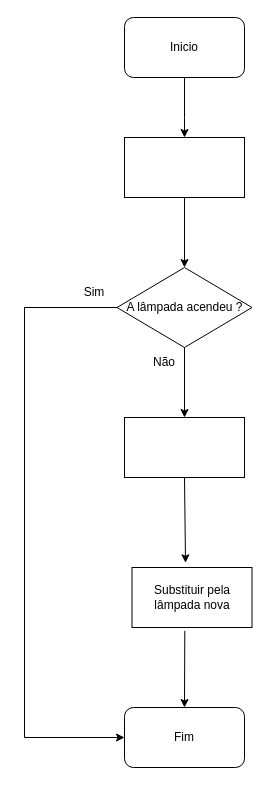
Image size: 270x785. Some labels were removed from this diagram. Each missing label, with the centre of its shape:
Retirar a Lâmpada queimada: the point at 184,447
Testar Interruptor: the point at 184,167
